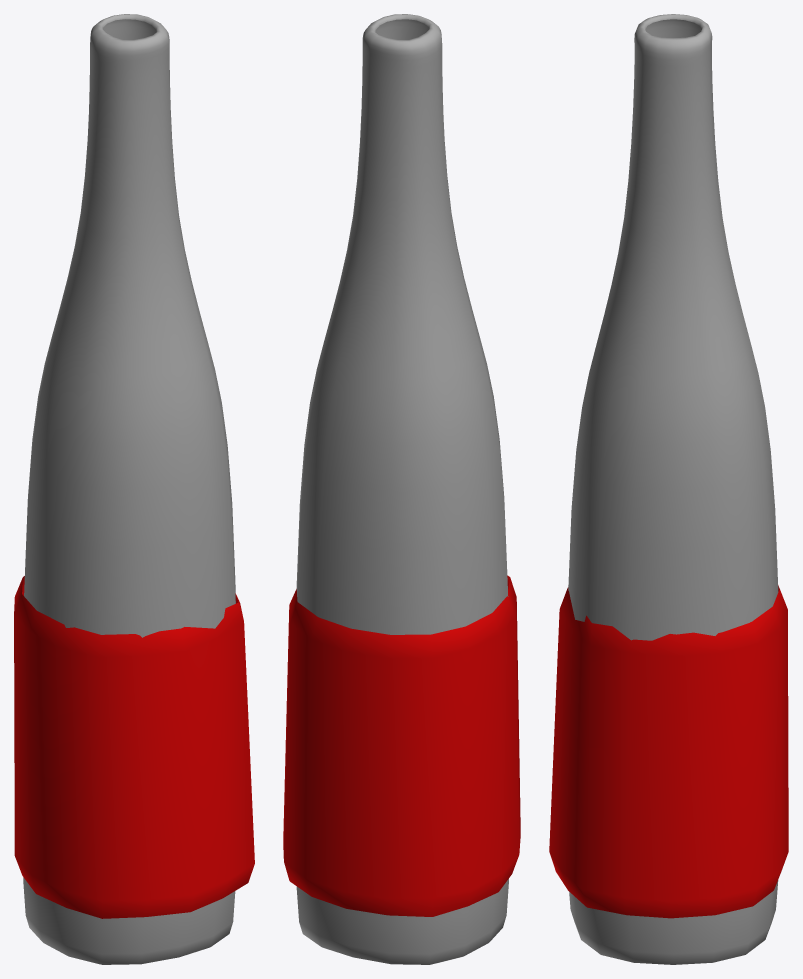
File: bottle_v3.fbx
3 views of the same model, side by side, from view 1: azimuth 30°, elevation 25°; view 2: azimuth 150°, elevation 25°; view 3: azimuth 270°, elevation 25° (orthographic).
Visible parts, largest first — view 1: bannerv1_4; view 2: bannerv1_4; view 3: bannerv1_4.
Part boxes in pixels (left/top/right/bottom): bannerv1_4: left=14, top=14, right=254, bottom=964; bannerv1_4: left=283, top=14, right=520, bottom=964; bannerv1_4: left=549, top=14, right=788, bottom=964.
Size of the model in its own units: 5.21 by 22.02 by 5.32.
